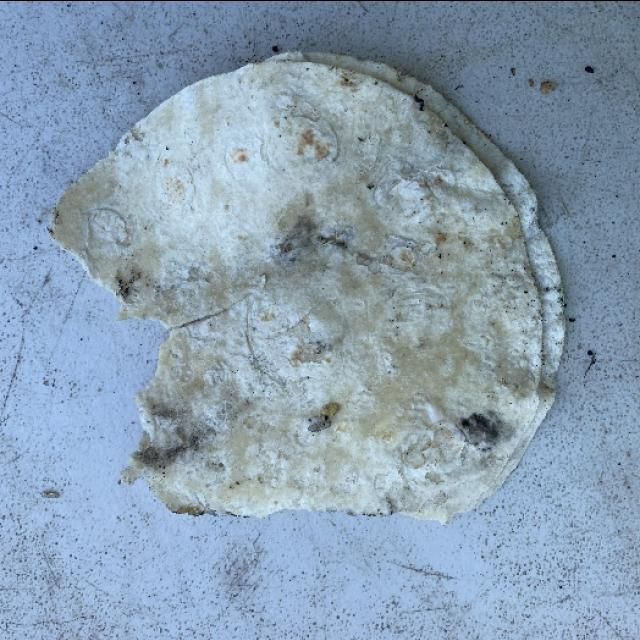organik: (44, 39, 571, 532)
